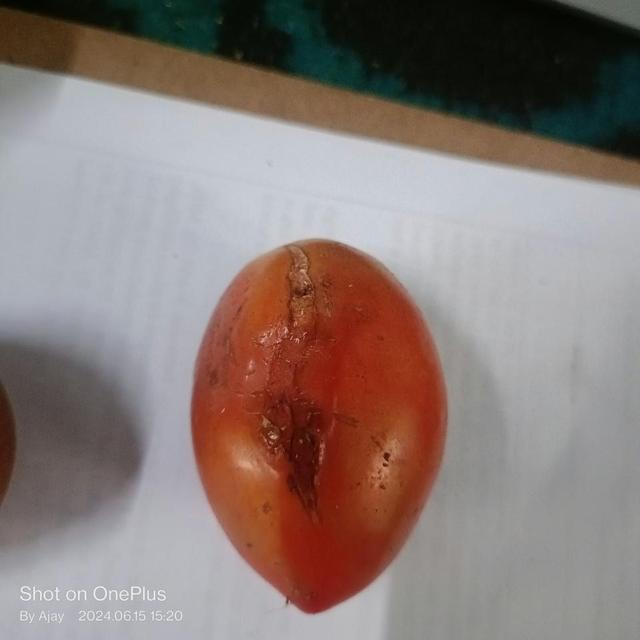Cracking Fruit: (98, 171, 328, 430)
